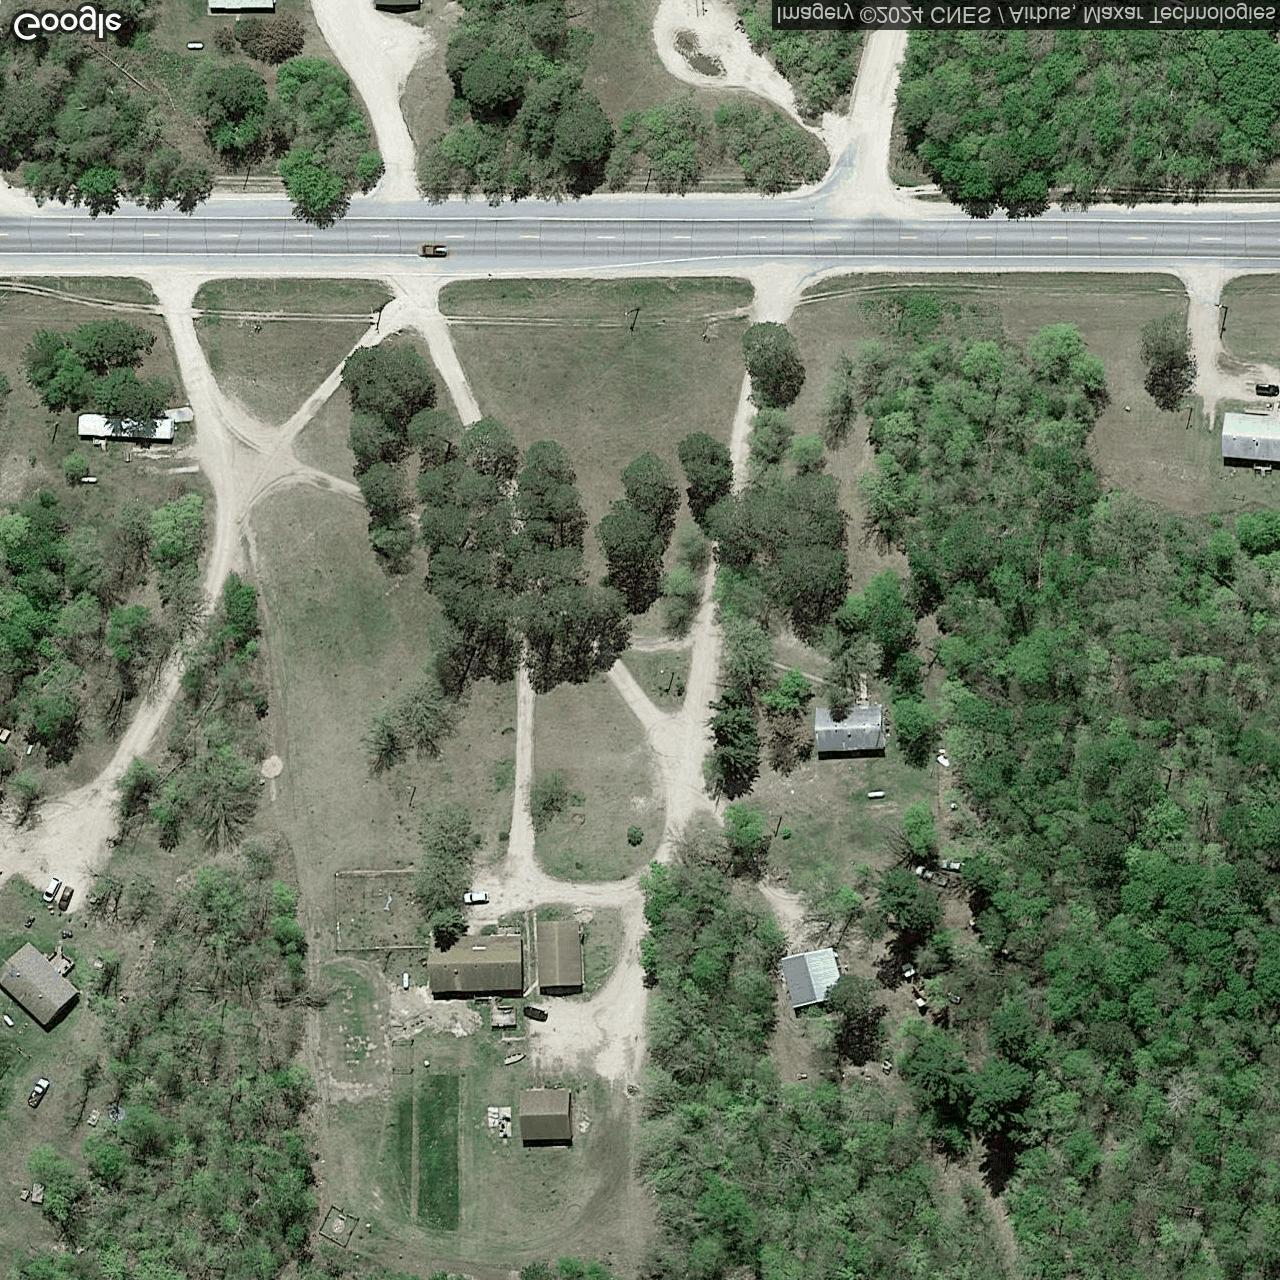Garage: (778, 946, 845, 1010), (533, 919, 584, 988), (517, 1088, 574, 1141)
House: (0, 940, 81, 1027), (424, 933, 524, 993), (811, 702, 888, 754), (1219, 410, 1280, 463), (206, 1, 275, 8), (373, 0, 421, 6)
Propane: (865, 790, 887, 802), (79, 475, 98, 486), (1, 1013, 15, 1029), (185, 41, 206, 52), (401, 971, 410, 993), (23, 742, 35, 758)
Trailer: (76, 411, 177, 441)
